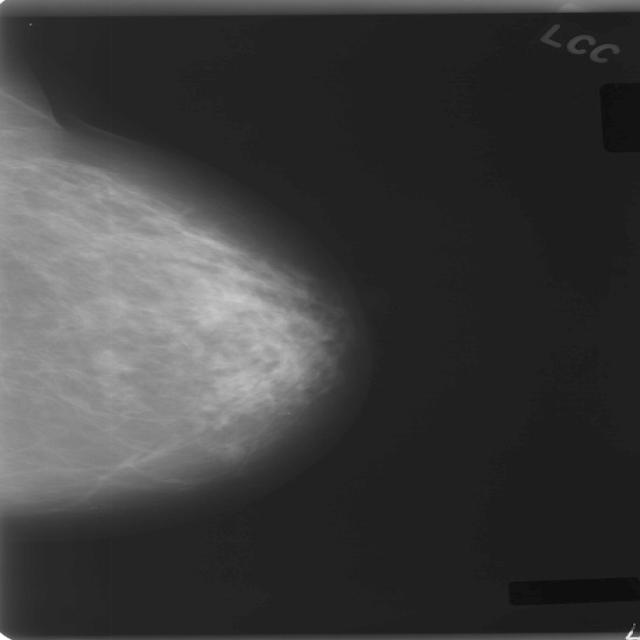tumour: (86, 348, 132, 374)
